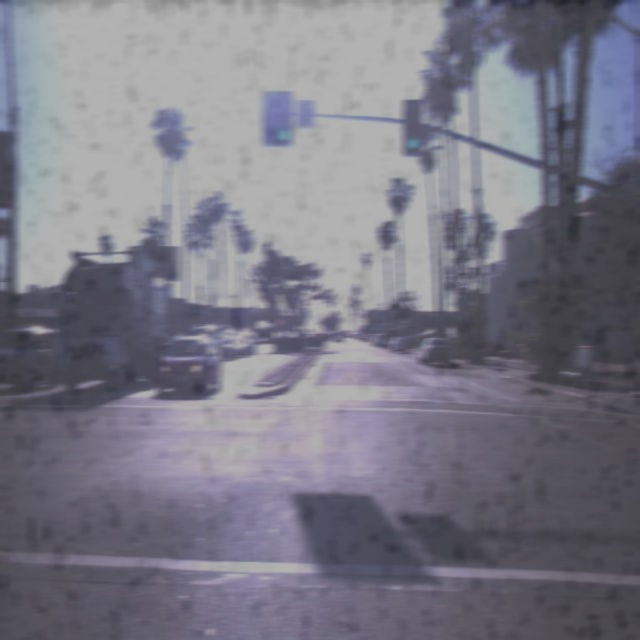go: (270, 81, 297, 148), (402, 104, 424, 154), (375, 308, 383, 328)
go traffic light: (270, 81, 297, 148), (402, 104, 424, 154), (375, 308, 383, 328)
